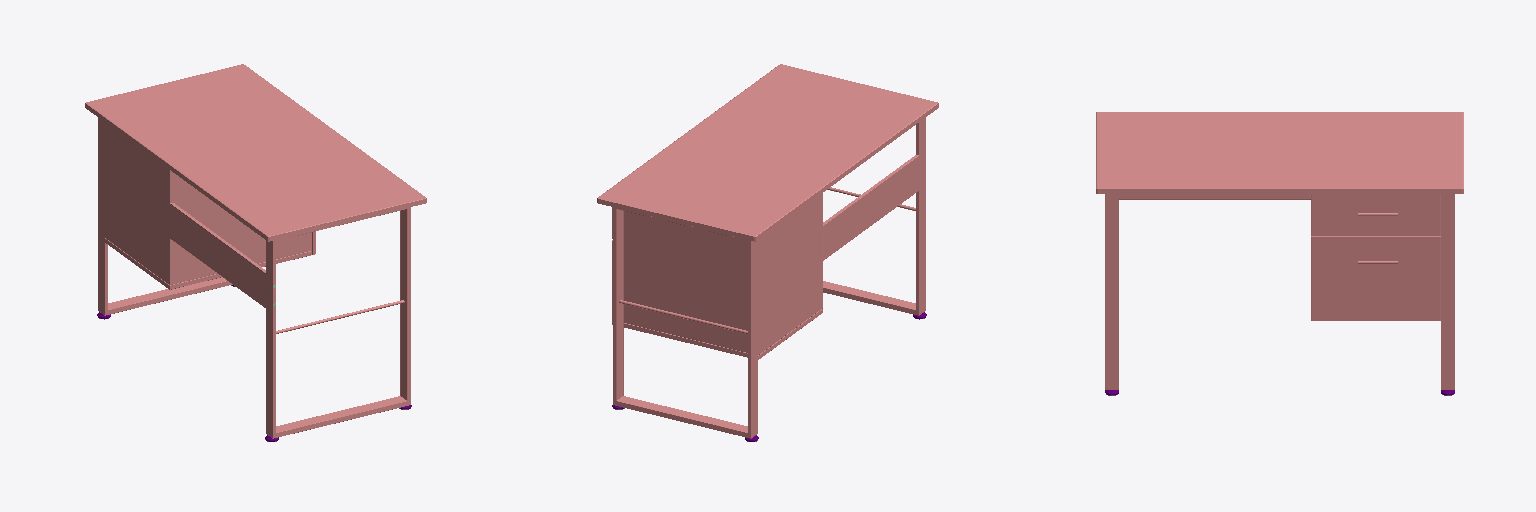
Rendered from Table.obj.
3 renders of one model, left to right at view 1: azimuth 30°, elevation 25°; view 2: azimuth 150°, elevation 25°; view 3: azimuth 270°, elevation 25°, orthographic.
Parts seen in each view (by area): view 1: Object, Rectangle001; view 2: Object, Rectangle001; view 3: Object, Rectangle001.
Part boxes in pixels (x1,y1,x2,y2): Object: (85,64,426,307); Rectangle001: (98,118,410,438); Object: (597,64,938,359); Rectangle001: (613,118,925,438); Object: (1096,112,1463,320); Rectangle001: (1105,194,1454,389).
Bounding box in the file's own units: 23.62 × 30.01 × 47.24.